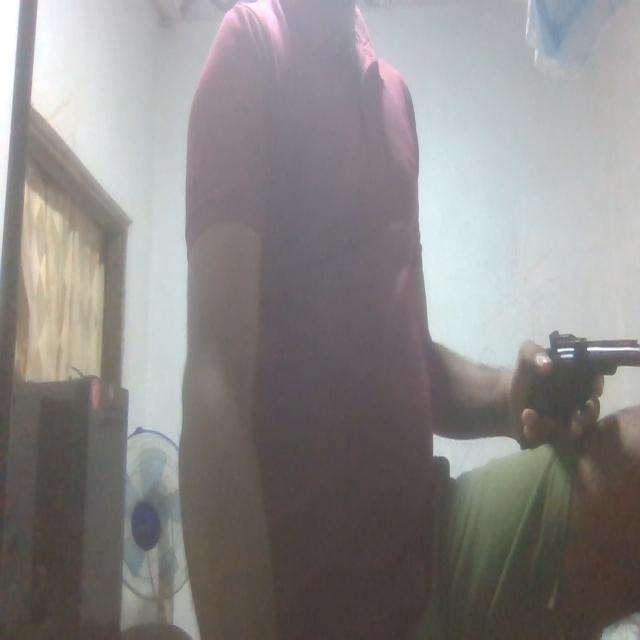Gun_Holder: (511, 320, 640, 455)
Person: (188, 0, 640, 640)
